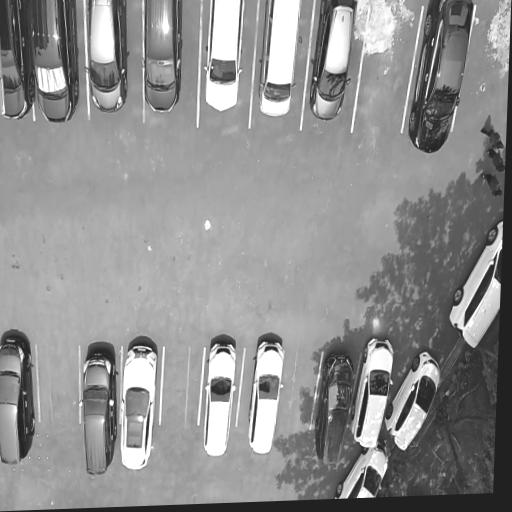Car: (406, 0, 476, 154), (443, 211, 503, 368), (382, 338, 448, 455), (27, 0, 83, 135), (305, 343, 361, 467), (346, 331, 401, 451), (114, 337, 160, 474), (75, 340, 120, 480), (306, 0, 357, 123), (254, 0, 306, 120), (81, 0, 131, 120), (0, 326, 38, 482), (241, 333, 286, 460), (138, 0, 186, 118), (200, 0, 246, 115), (200, 336, 240, 462), (0, 0, 37, 125), (329, 439, 393, 499)
Space Available: (353, 0, 422, 142), (277, 339, 323, 438), (36, 339, 77, 436), (162, 340, 204, 433)
